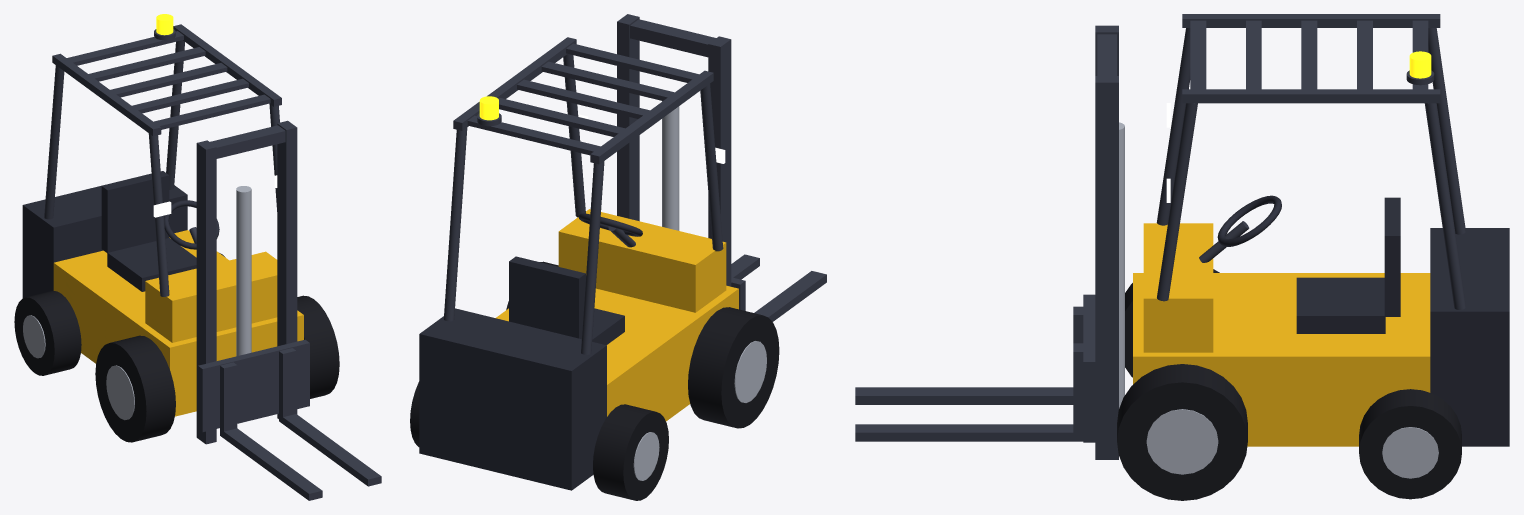
File: ind-016.glb
3 views of the same model, side by side, from view 1: azimuth 30°, elevation 25°; view 2: azimuth 150°, elevation 25°; view 3: azimuth 270°, elevation 25° (orthographic). The views are drawn at different scales.
Parts seen in each view (by area): view 1: dark_steel, safety_yellow, plastic_dark, rubber, steel; view 2: plastic_dark, dark_steel, safety_yellow, rubber, steel; view 3: dark_steel, safety_yellow, plastic_dark, rubber, steel.
Part boxes in pixels (x1,y1,x2,y2): dark_steel: [44, 24, 381, 500]; safety_yellow: [53, 230, 303, 416]; plastic_dark: [22, 171, 219, 298]; rubber: [14, 253, 339, 442]; steel: [23, 186, 251, 420]; plastic_dark: [419, 213, 642, 490]; dark_steel: [443, 14, 826, 354]; safety_yellow: [495, 209, 738, 421]; rubber: [410, 261, 779, 500]; steel: [633, 101, 766, 480]; dark_steel: [855, 14, 1465, 459]; safety_yellow: [1133, 223, 1430, 446]; plastic_dark: [1217, 195, 1509, 446]; rubber: [1117, 269, 1461, 500]; steel: [1119, 122, 1438, 478].
Size of the model in its own units: 1.45 by 2.28 by 3.3.
